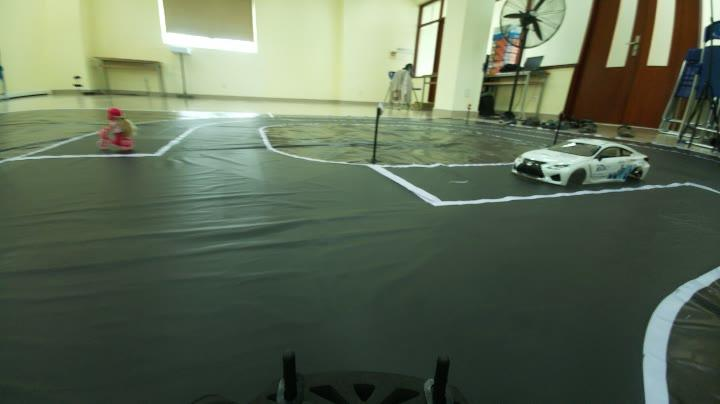car: (502, 136, 658, 192)
